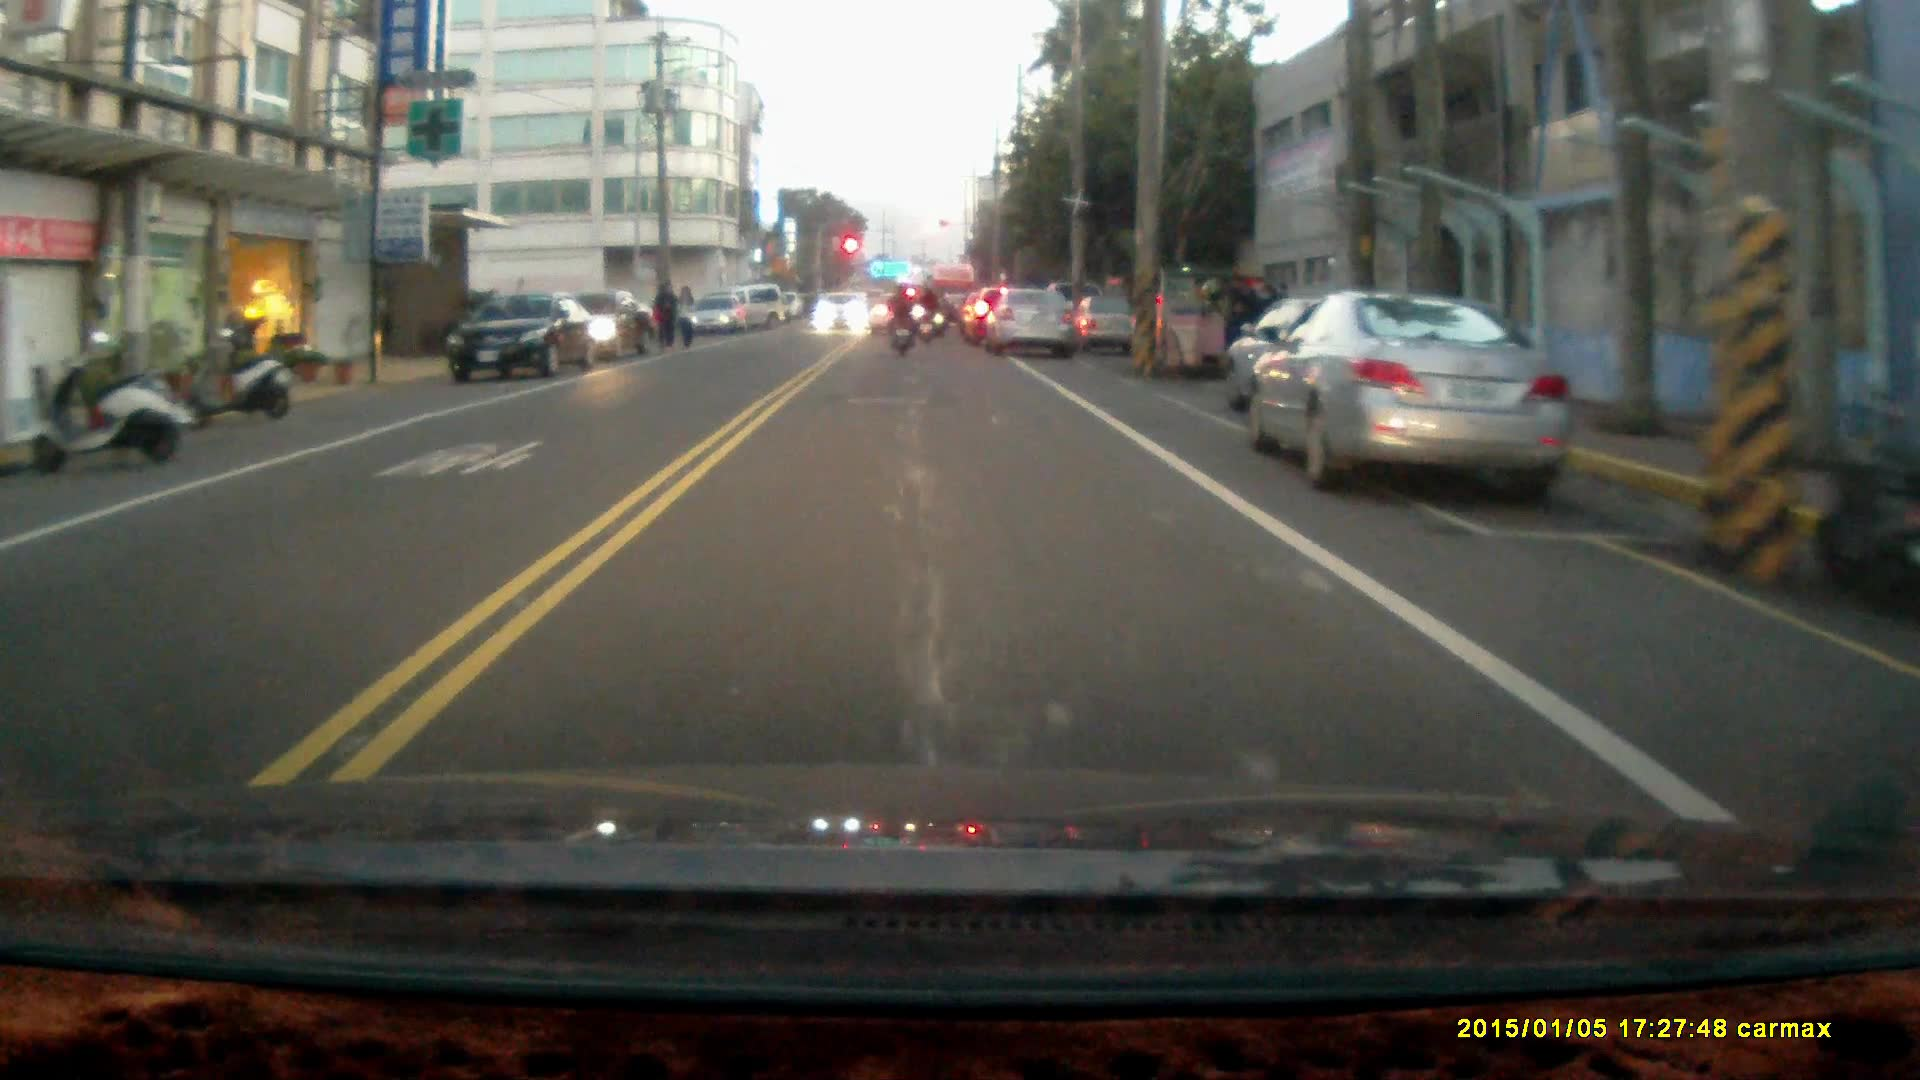pedestrian: (651, 276, 679, 352), (674, 279, 695, 352)
rider: (884, 282, 915, 359), (913, 280, 940, 345)
vehicle: (1249, 292, 1577, 506), (449, 289, 601, 386), (1117, 271, 1244, 380), (986, 286, 1082, 360), (812, 292, 867, 338)
